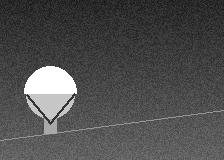helmet: (24, 66, 76, 123)
